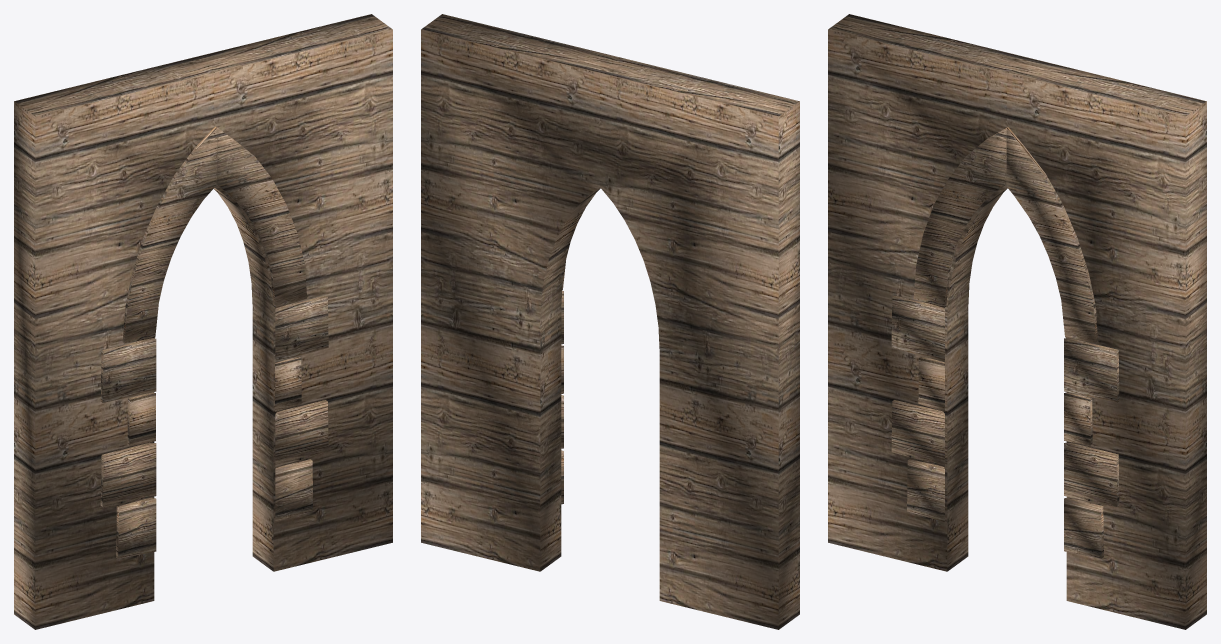
Rendered from wood door1.glb.
3 views of the same model, side by side, from view 1: azimuth 30°, elevation 25°; view 2: azimuth 150°, elevation 25°; view 3: azimuth 330°, elevation 25° (orthographic).
Parts seen in each view (by area): view 1: Pointed Arch Door.002; view 2: Pointed Arch Door.002; view 3: Pointed Arch Door.002.
Part boxes in pixels (left/top/right/bottom): Pointed Arch Door.002: left=14, top=14, right=392, bottom=629; Pointed Arch Door.002: left=421, top=14, right=799, bottom=629; Pointed Arch Door.002: left=828, top=14, right=1206, bottom=629.
Bounding box in the file's own units: 2 × 2.74 × 0.225.
2 materials, 2 textured.
